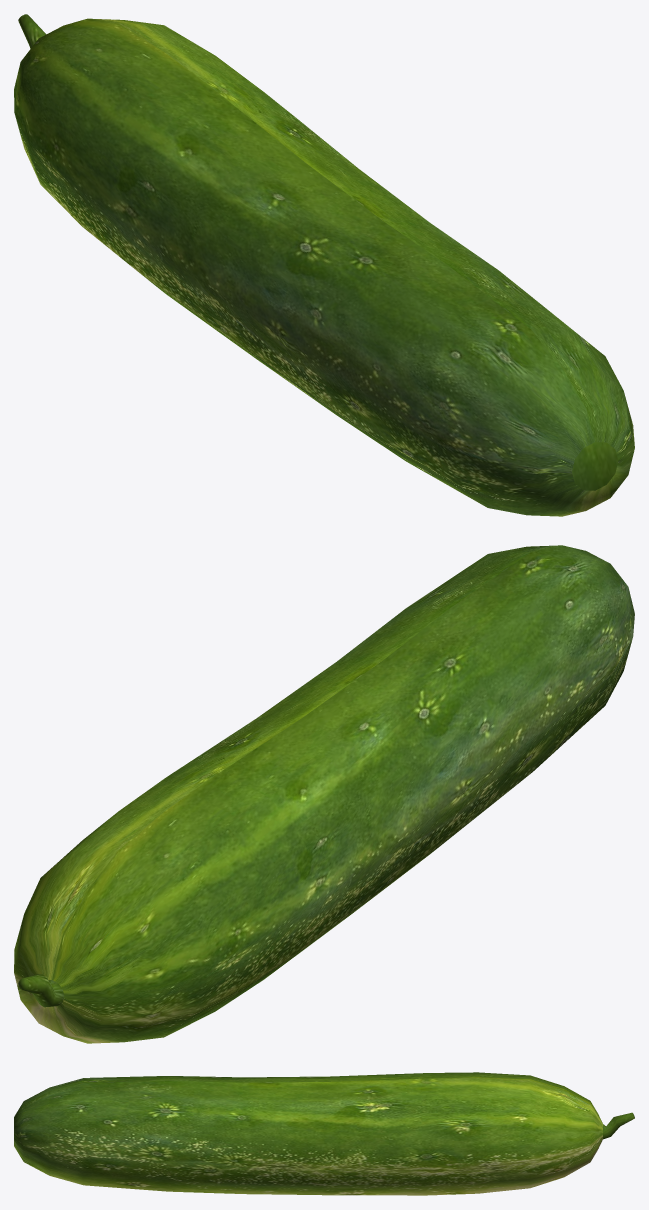
File: cucumber.fbx
3 views of the same model, one above another, from view 1: azimuth 30°, elevation 25°; view 2: azimuth 150°, elevation 25°; view 3: azimuth 270°, elevation 25° (orthographic). The views are drawn at different scales.
Visible parts, largest first — view 1: SM_Cucumber; view 2: SM_Cucumber; view 3: SM_Cucumber.
Boxes of the visible parts, left/top/right/bottom form: SM_Cucumber: left=14, top=14, right=634, bottom=516; SM_Cucumber: left=14, top=545, right=634, bottom=1043; SM_Cucumber: left=14, top=1072, right=634, bottom=1195.
Size of the model in its own units: 7.07 by 7.11 by 35.68.
Materials: 1 (1 with a texture image).
